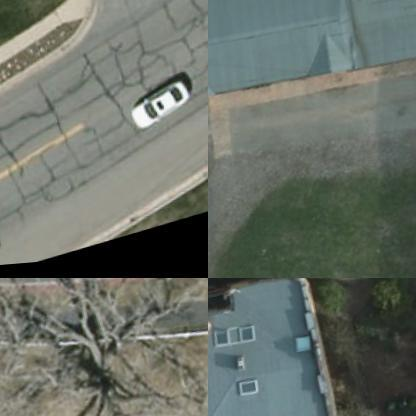car: (121, 75, 196, 142)
